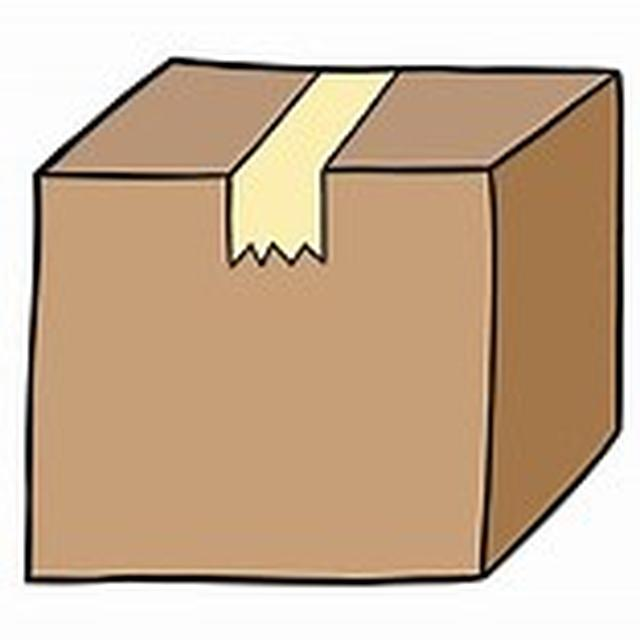box: (29, 29, 606, 588)
